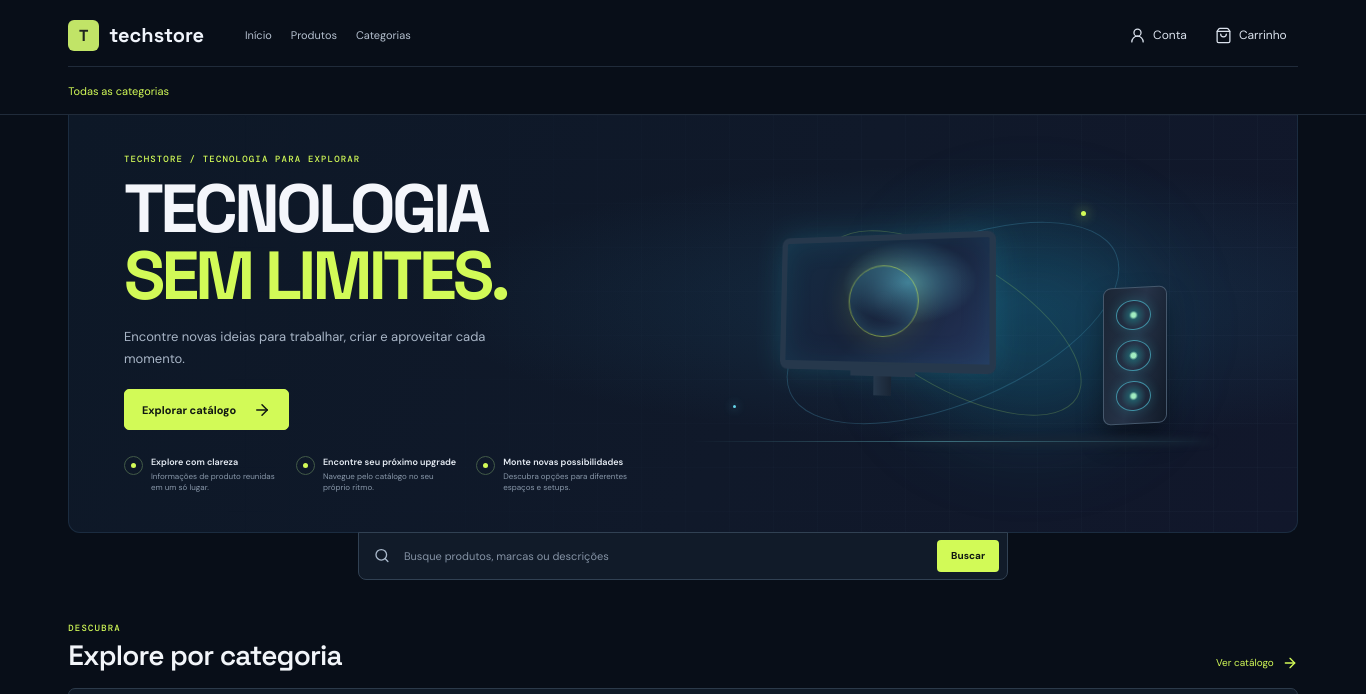
Test: App cart navigation and badge › uses the Home at / and preserves the full catalog at /catalog
Check: the heading "Tecnologia sem limites." is shown, box [124,165,507,319]
Click the link "Produtos" at [314, 35], box [291,28,337,42]
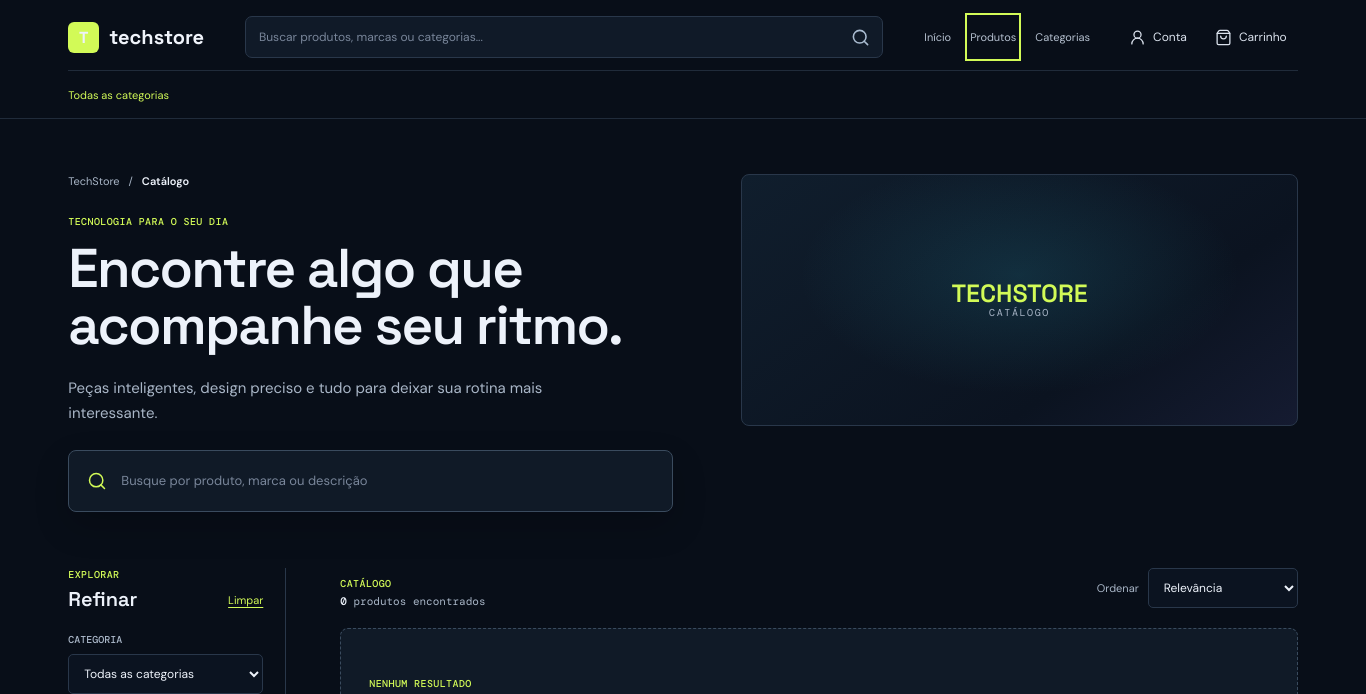
Check: the heading "Encontre algo que acompanhe seu ritmo." is shown, box [68,240,673,354]
